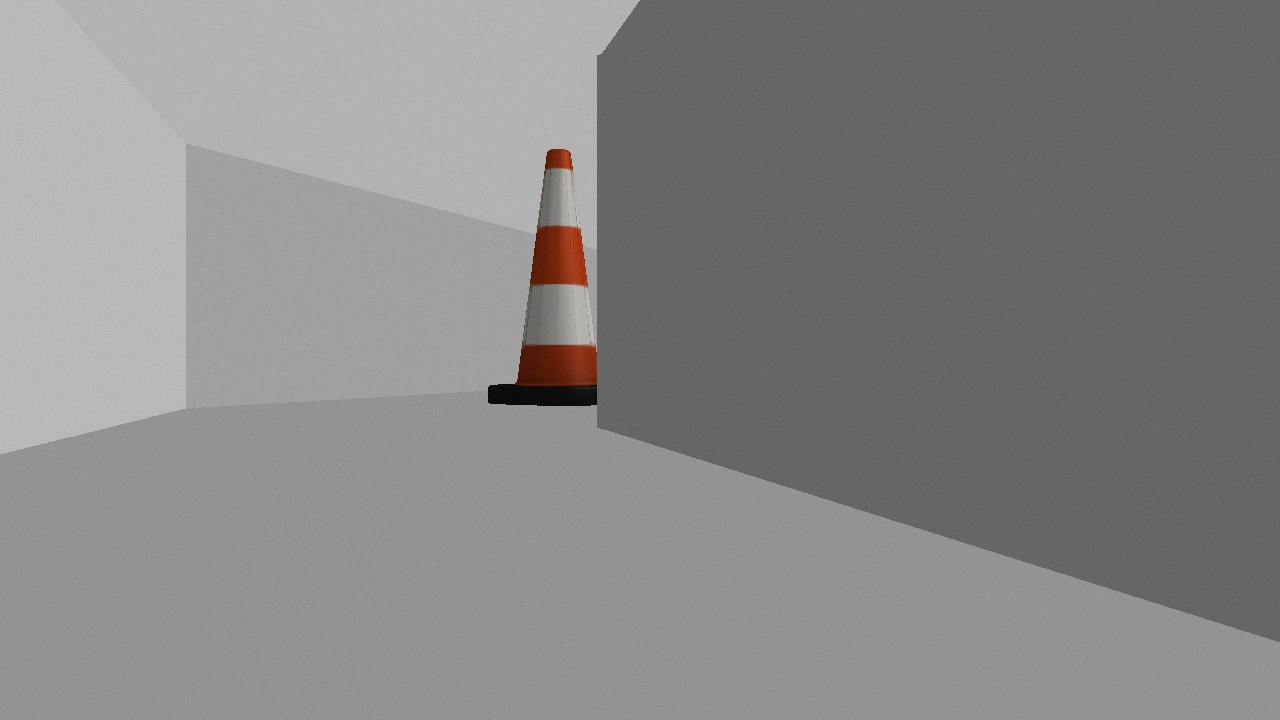barricade: (487, 148, 634, 407)
